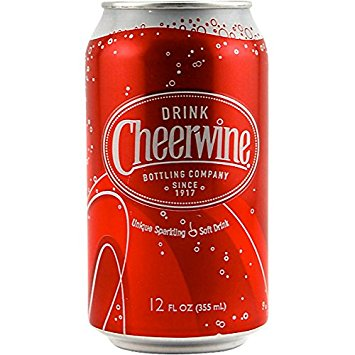can: (72, 1, 282, 354)
